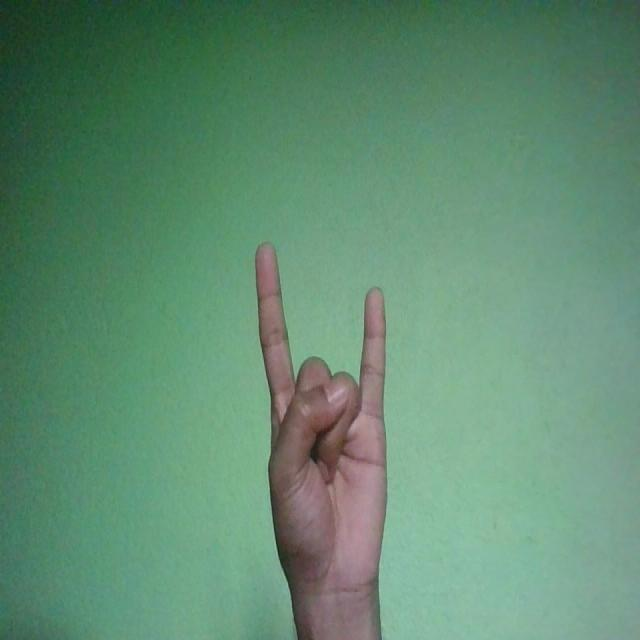open Plam: (256, 238, 388, 603)
